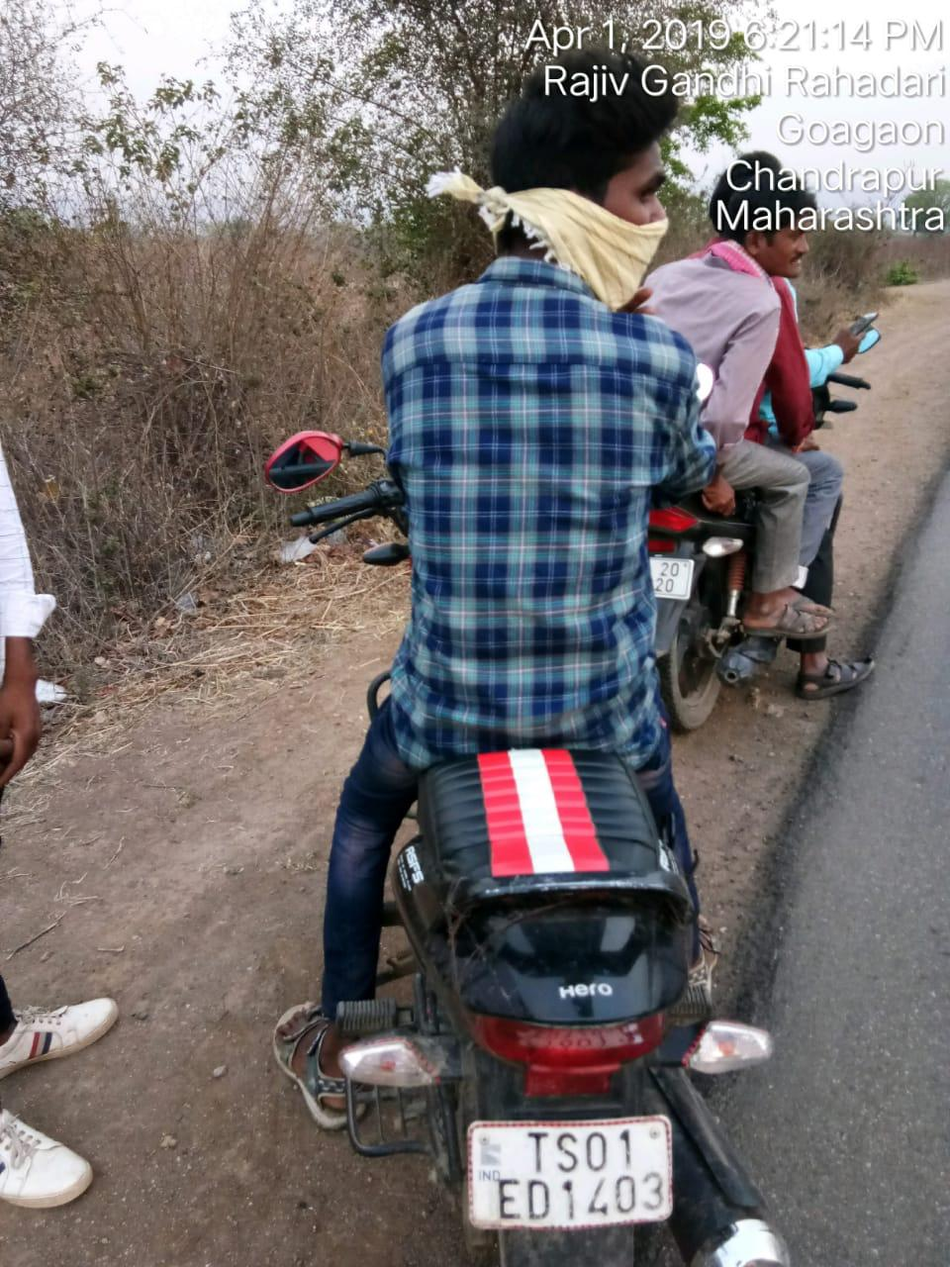plate: (446, 1093, 703, 1244)
